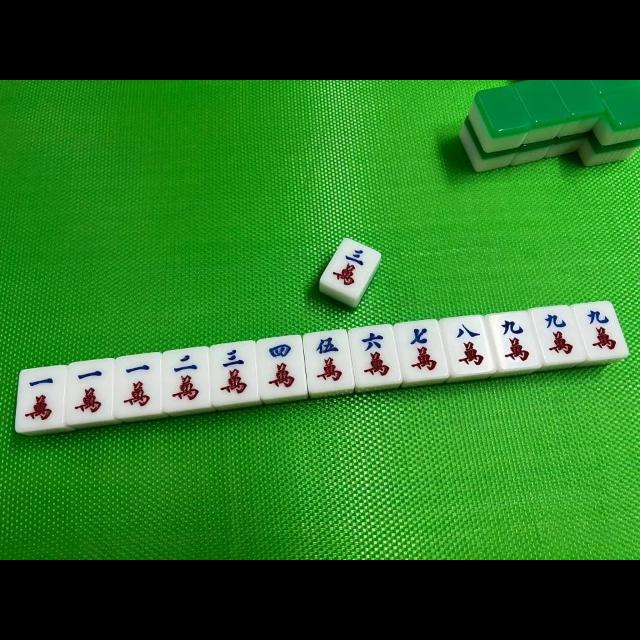c1: (18, 366, 66, 428), (114, 354, 162, 416), (67, 362, 113, 422)
c2: (162, 348, 212, 408)
c3: (212, 343, 258, 402), (326, 240, 376, 294)
c4: (258, 338, 306, 398)
c5: (304, 331, 354, 393)
c6: (352, 326, 400, 386)
c7: (398, 323, 446, 379)
c8: (445, 316, 493, 378)
c9: (488, 313, 538, 372), (577, 302, 625, 361), (534, 308, 582, 364)
